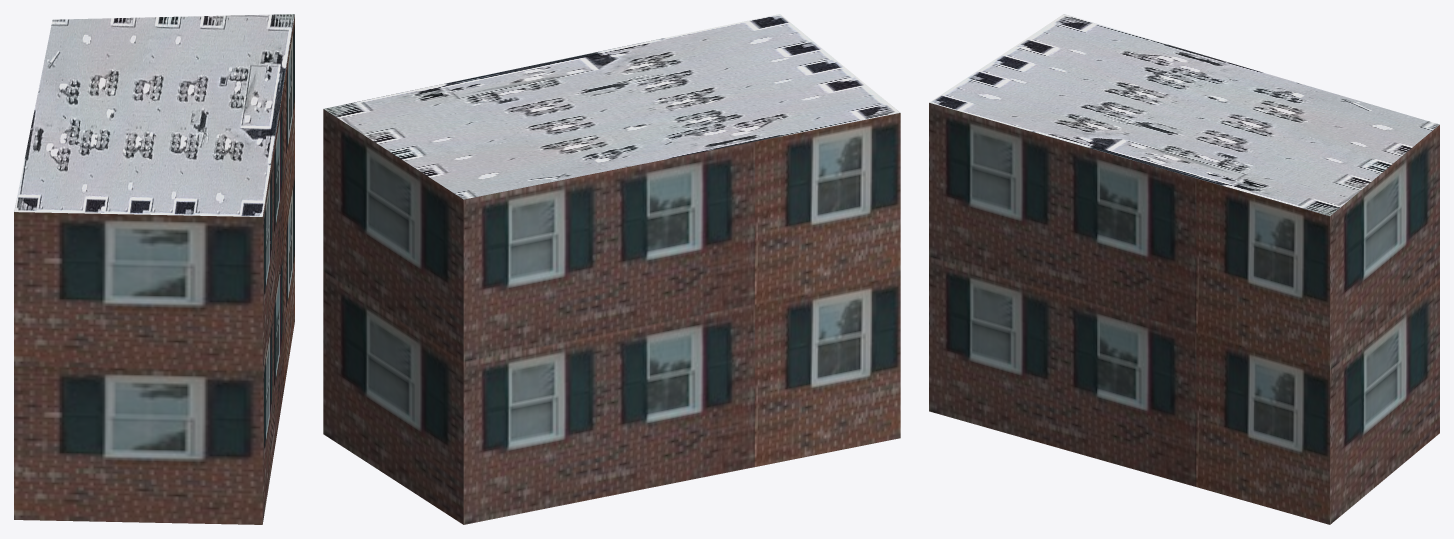
The model's file is ResTex__3489.fbx.
3 views of the same model, side by side, from view 1: azimuth 30°, elevation 25°; view 2: azimuth 150°, elevation 25°; view 3: azimuth 270°, elevation 25° (orthographic). The views are drawn at different scales.
Visible parts, largest first — view 1: CityEngineMaterial_14_m, CityEngineMaterial_m; view 2: CityEngineMaterial_14_m, CityEngineMaterial_m; view 3: CityEngineMaterial_14_m, CityEngineMaterial_m.
Part boxes in pixels (left/top/right/bottom): CityEngineMaterial_14_m: left=14, top=15, right=294, bottom=524; CityEngineMaterial_m: left=14, top=14, right=294, bottom=216; CityEngineMaterial_14_m: left=323, top=109, right=900, bottom=524; CityEngineMaterial_m: left=323, top=14, right=900, bottom=199; CityEngineMaterial_14_m: left=929, top=103, right=1439, bottom=524; CityEngineMaterial_m: left=929, top=14, right=1439, bottom=215.
Bounding box in the file's own units: 8.43 × 6 × 9.
2 materials, 2 textured.
